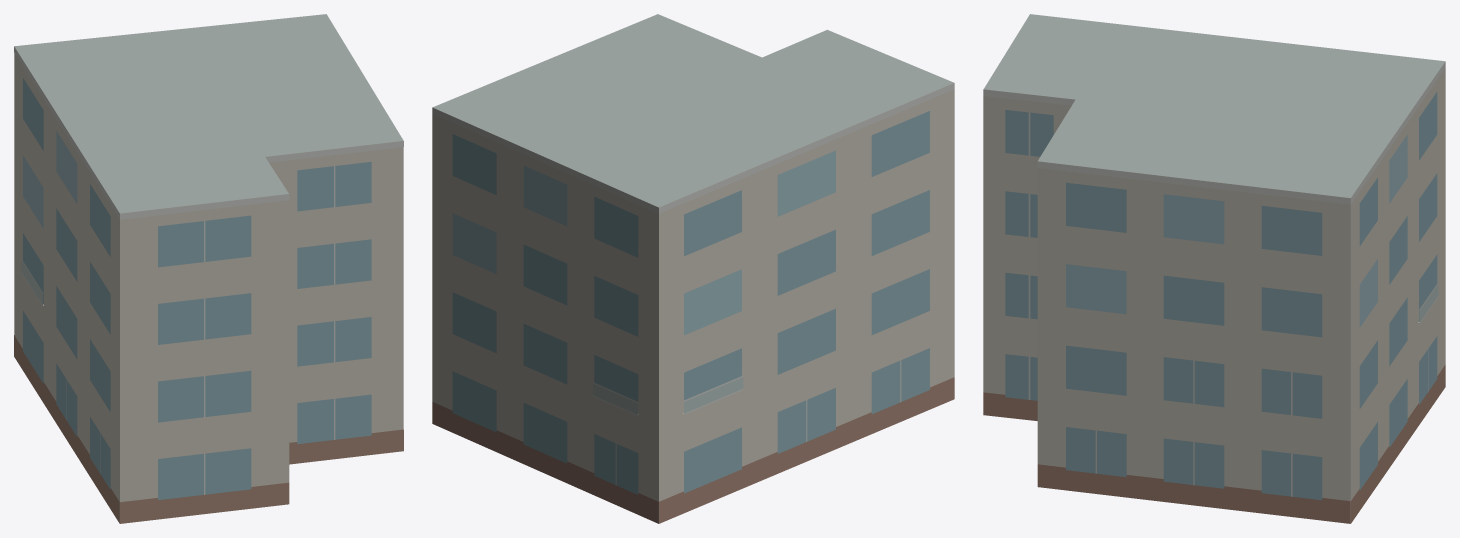
File: residential-b4752735-2925-4256-8983-9331ed850e2a.glb
The picture shows the model from 3 angles, left to right: view 1: azimuth 30°, elevation 25°; view 2: azimuth 150°, elevation 25°; view 3: azimuth 270°, elevation 25°; orthographic projection. The views are drawn at different scales.
Visible parts, largest first — view 1: residential-b4752735-2925-4256-8983-9331ed850e2a.tmp; view 2: residential-b4752735-2925-4256-8983-9331ed850e2a.tmp; view 3: residential-b4752735-2925-4256-8983-9331ed850e2a.tmp.
Boxes of the visible parts, x1,y1,x2,y2 form: residential-b4752735-2925-4256-8983-9331ed850e2a.tmp: (14,14,403,523); residential-b4752735-2925-4256-8983-9331ed850e2a.tmp: (432,14,954,523); residential-b4752735-2925-4256-8983-9331ed850e2a.tmp: (983,14,1445,523).
Bounding box in the file's own units: 14.8 × 12.2 × 15.7.
